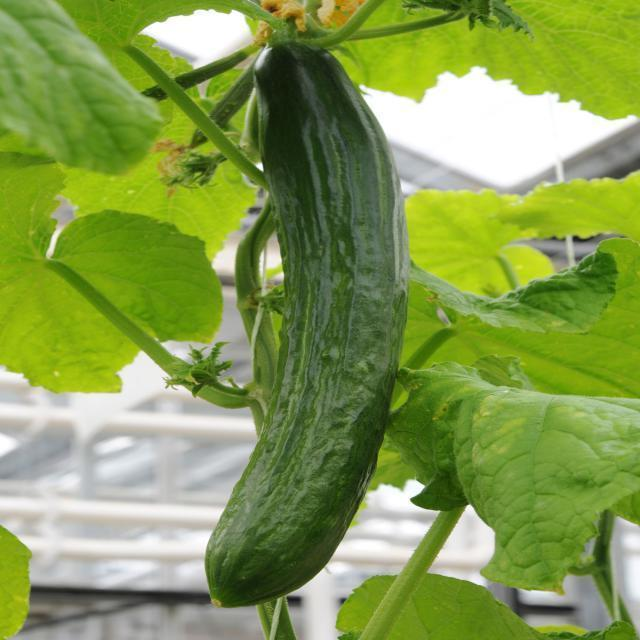cucumber: (200, 34, 415, 612)
